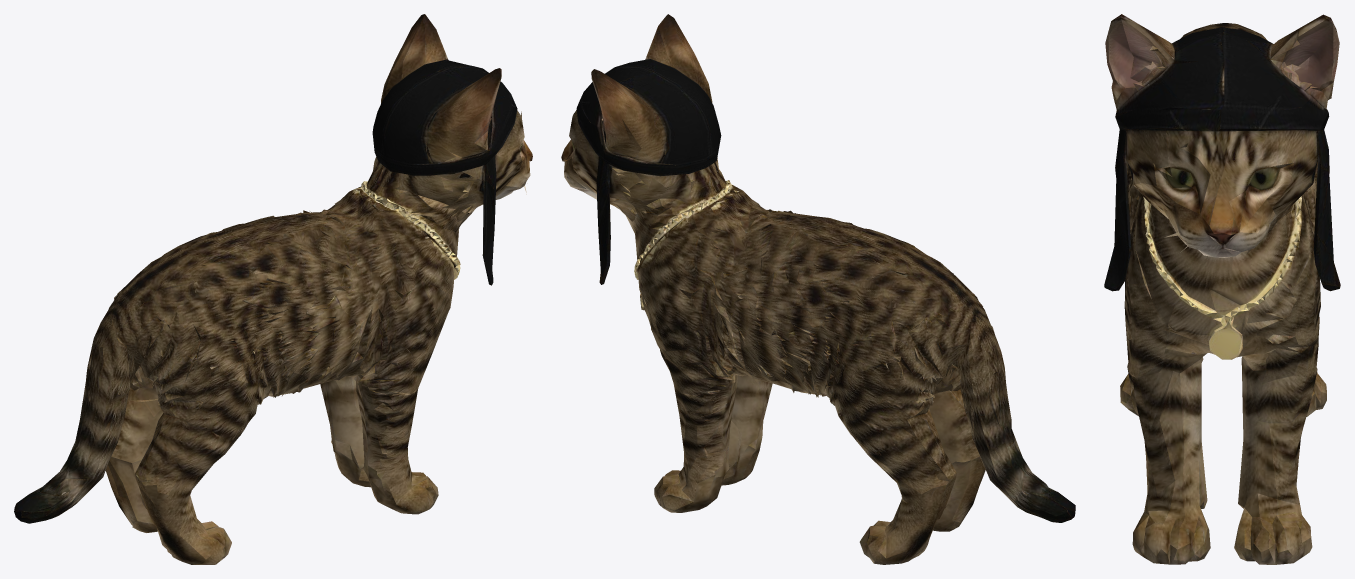
Rendered from KITTENPLZ.glb.
The picture shows the model from 3 angles, left to right: view 1: azimuth 30°, elevation 25°; view 2: azimuth 150°, elevation 25°; view 3: azimuth 270°, elevation 25°; orthographic projection. The views are drawn at different scales.
Parts seen in each view (by area): view 1: fit; view 2: fit; view 3: fit.
Part boxes in pixels (x1,y1,x2,y2): fit: [14, 14, 532, 564]; fit: [561, 14, 1075, 564]; fit: [1104, 14, 1340, 564].
Bounding box in the file's own units: 1.24 × 1 × 0.3648.
Materials: 1 (1 with a texture image).
